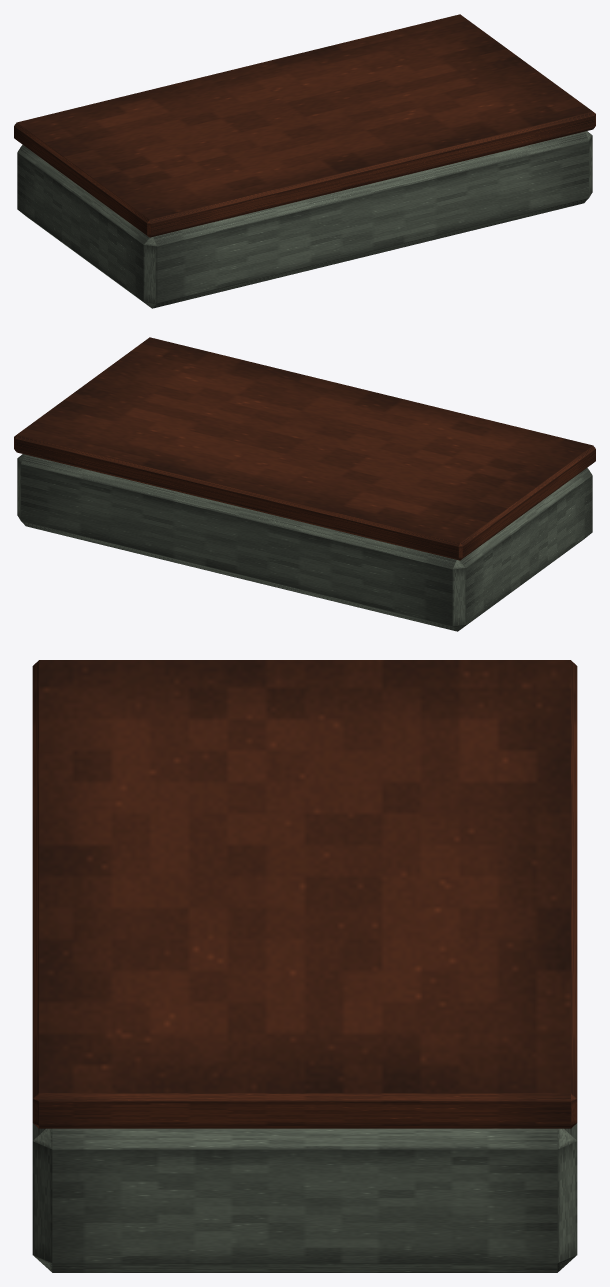
File: THStage_FindSupport_14.fbx
3 renders of one model, top to bottom at view 1: azimuth 30°, elevation 25°; view 2: azimuth 150°, elevation 25°; view 3: azimuth 270°, elevation 25°, orthographic. The views are drawn at different scales.
Parts seen in each view (by area): view 1: THStage_FindSupport_14; view 2: THStage_FindSupport_14; view 3: THStage_FindSupport_14.
Part boxes in pixels (x1,y1,x2,y2): THStage_FindSupport_14: (14,14,595,308); THStage_FindSupport_14: (14,337,595,631); THStage_FindSupport_14: (32,660,577,1272).
Size of the model in its own units: 0.628 by 0.124 by 0.33.
Materials: 1 (1 with a texture image).
